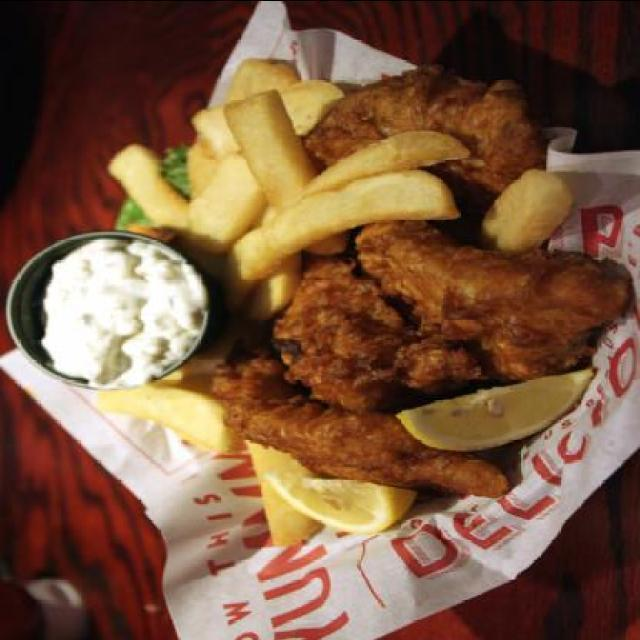French fries: (97, 58, 469, 546)
